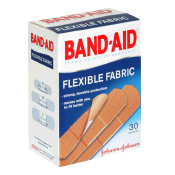grozi_46: (28, 9, 140, 166)
